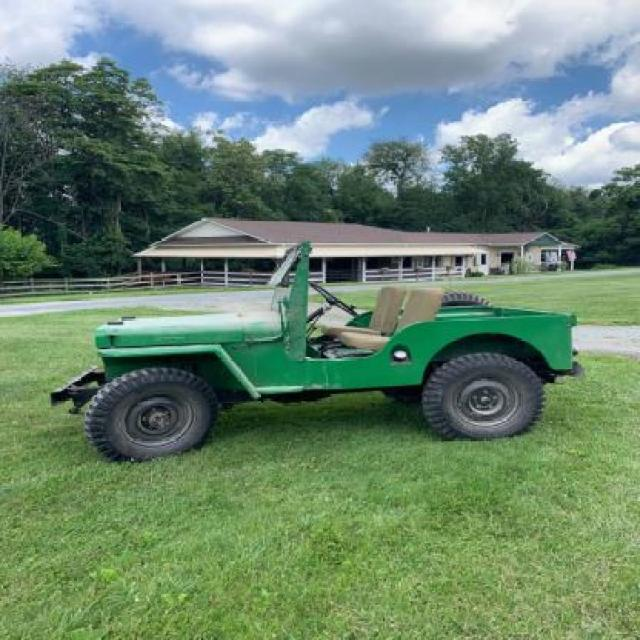Jeep: (70, 246, 585, 476)
